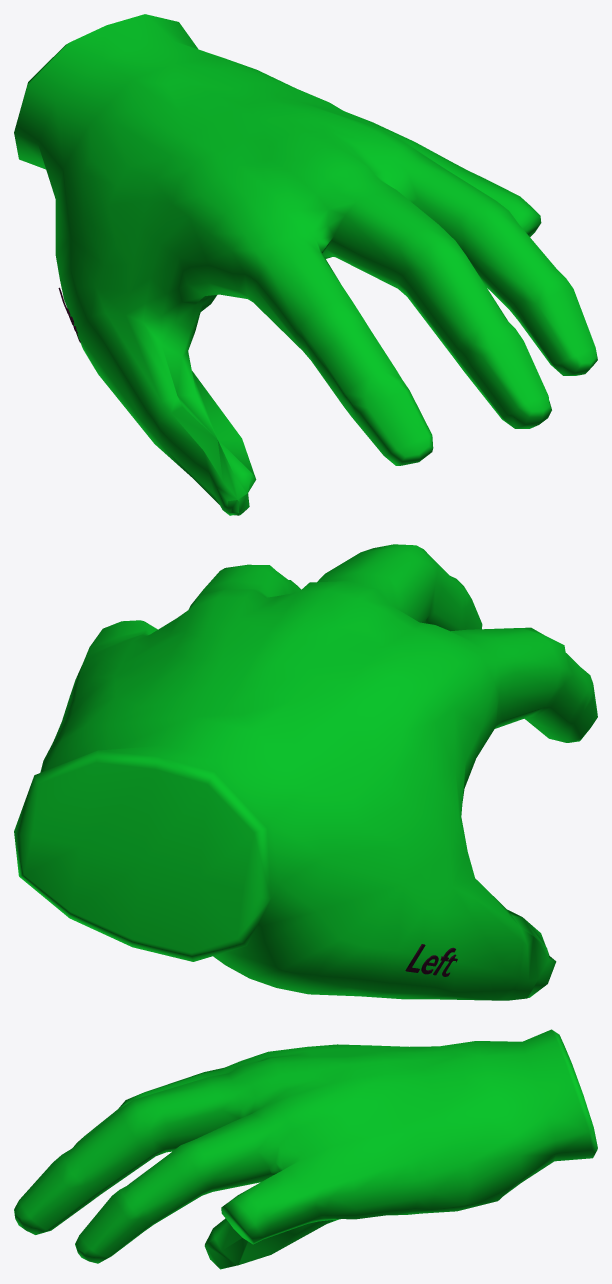
File: l_hand_skeletal_lowres.fbx
3 views of the same model, one above another, from view 1: azimuth 30°, elevation 25°; view 2: azimuth 150°, elevation 25°; view 3: azimuth 270°, elevation 25° (orthographic). The views are drawn at different scales.
Parts seen in each view (by area): view 1: hands:Lhand; view 2: hands:Lhand, Object; view 3: hands:Lhand.
Boxes of the visible parts, left/top/right/bottom form: hands:Lhand: left=14, top=14, right=597, bottom=515; hands:Lhand: left=14, top=544, right=597, bottom=1000; Object: left=405, top=944, right=457, bottom=976; hands:Lhand: left=14, top=1029, right=597, bottom=1269.
Bounding box in the file's own units: 11.8 × 9.59 × 19.7.
